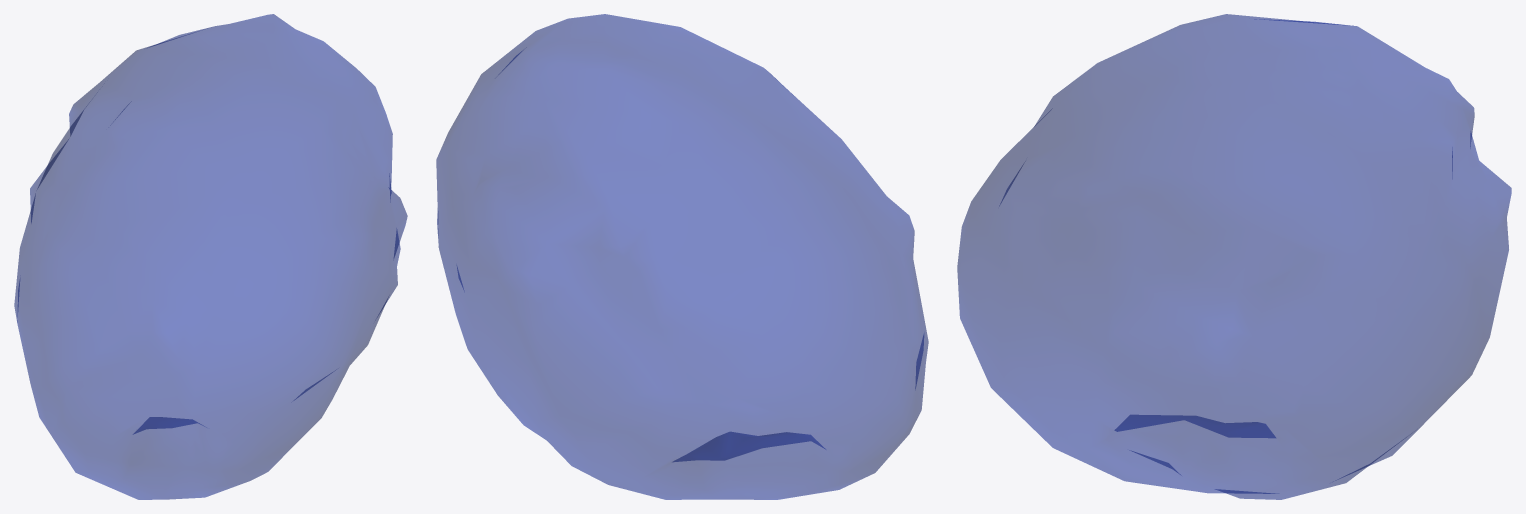
File: nucleus-1.obj
3 renders of one model, left to right at view 1: azimuth 30°, elevation 25°; view 2: azimuth 150°, elevation 25°; view 3: azimuth 270°, elevation 25°, orthographic. The views are drawn at different scales.
Visible parts, largest first — view 1: duplicate_nucleus_1.015; view 2: duplicate_nucleus_1.015; view 3: duplicate_nucleus_1.015.
Part boxes in pixels (left/top/right/bottom): duplicate_nucleus_1.015: left=14, top=14, right=407, bottom=499; duplicate_nucleus_1.015: left=436, top=14, right=928, bottom=499; duplicate_nucleus_1.015: left=957, top=14, right=1511, bottom=499.
Size of the model in its own units: 0.8741 by 0.88 by 0.902.
